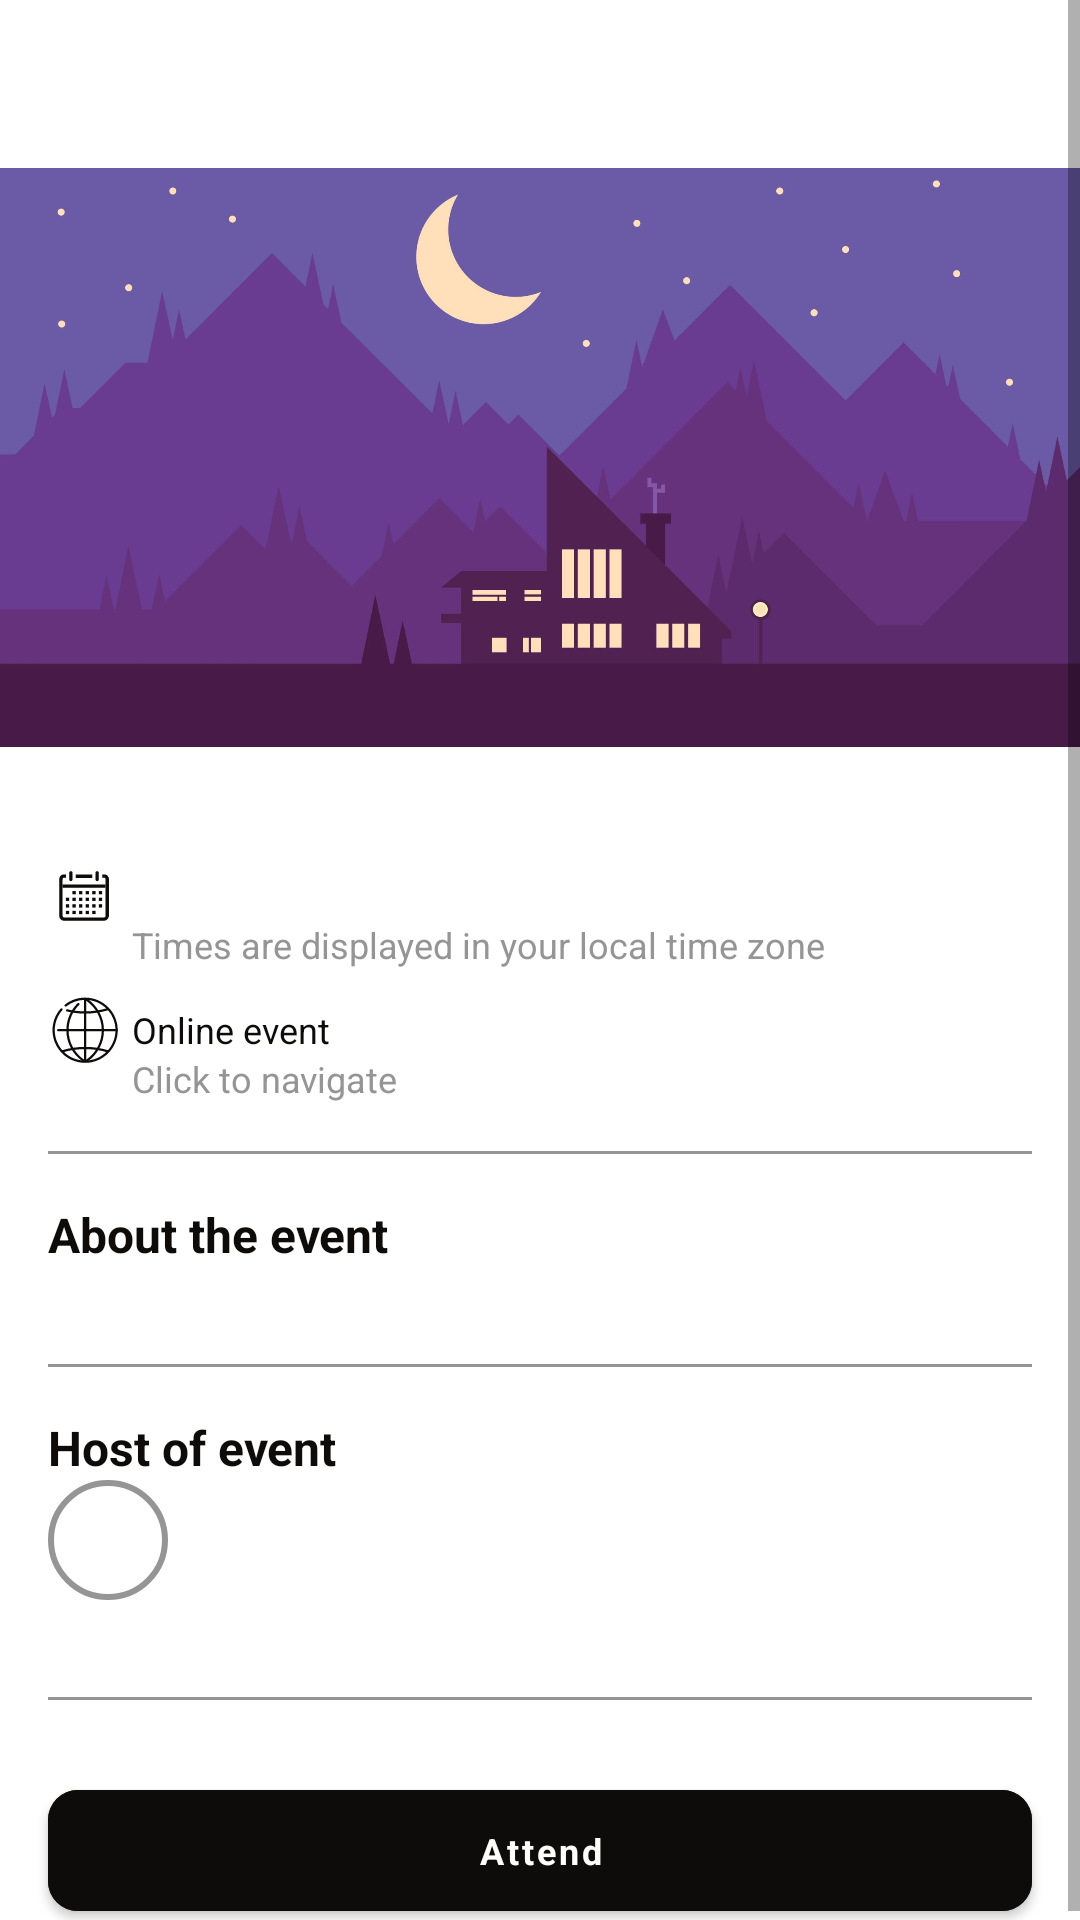

Named icons in this screenshot (1080 x 1920) and their centers, point (x, y):
calendar: point (84, 896)
